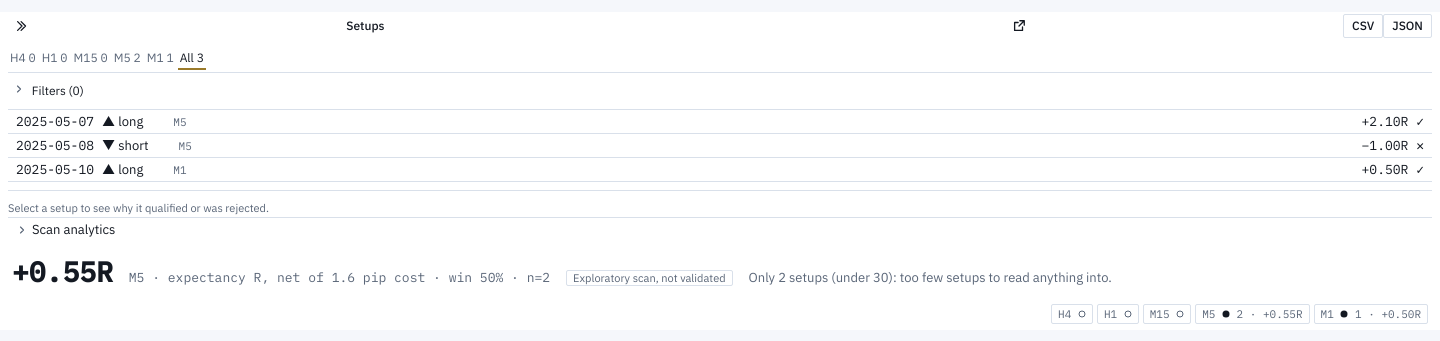
Test: setup browser › switching to a tab with no scan explains where to scan
Click the tab "H4 0": click(23, 59) [8,48,38,70]
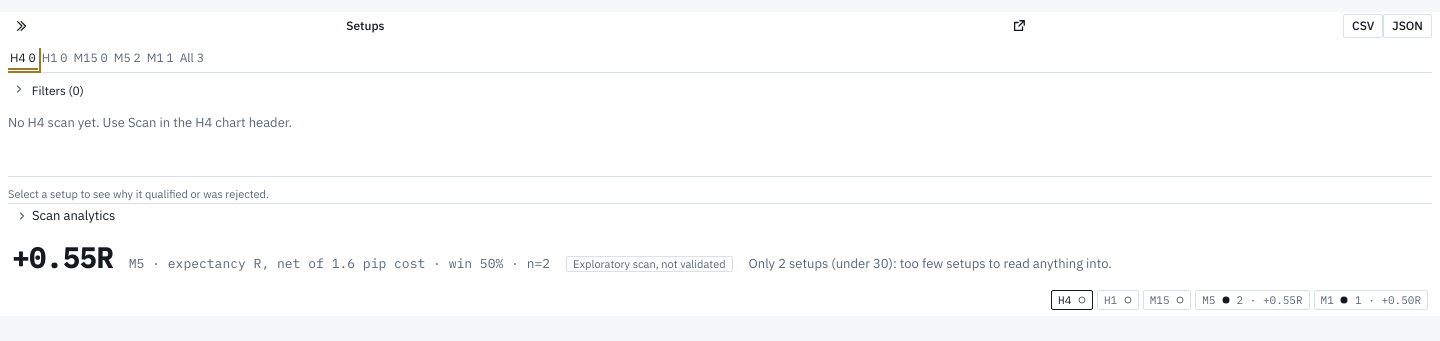
Check: the text "No H4 scan yet. Use Scan in the H4 chart header." is shown, box [8,114,292,131]
